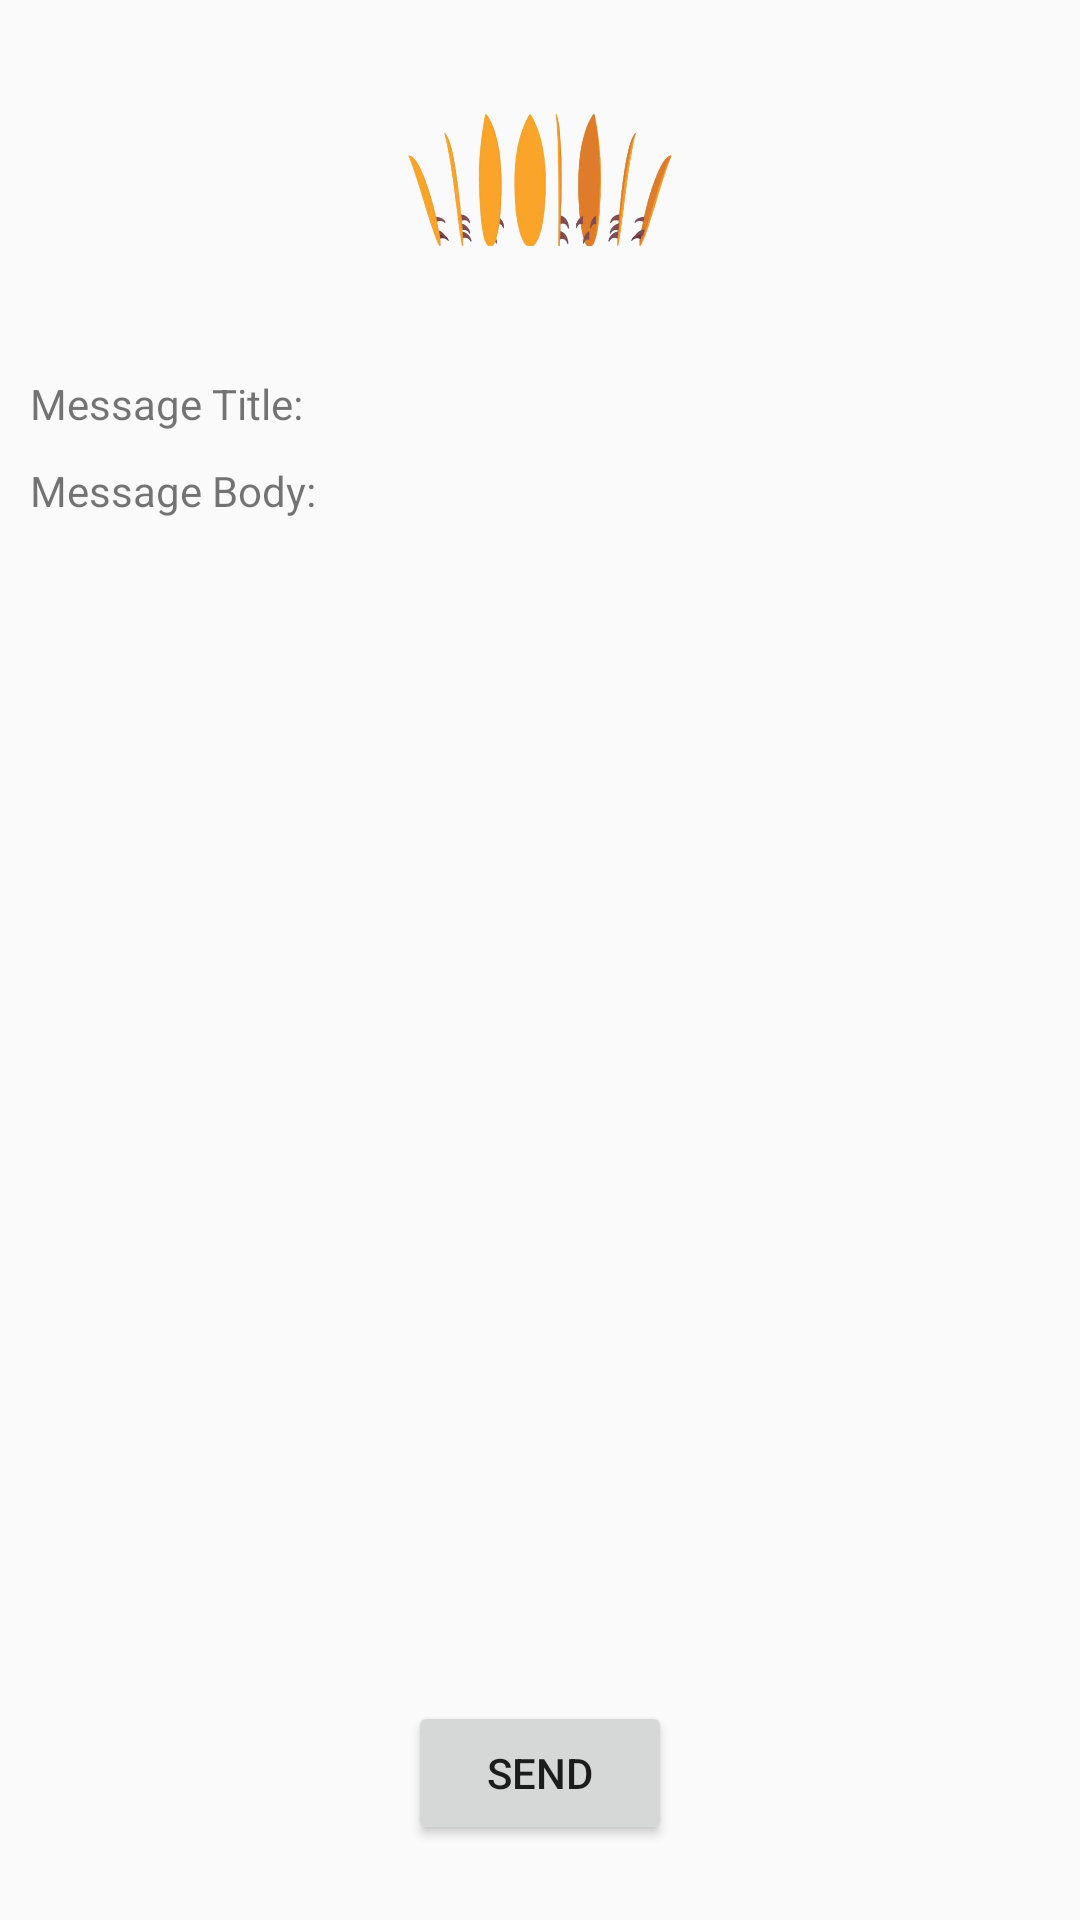

Screen size 1080×1920. Icon name, then its center in pixels as point (x, y):
board: point (540, 180)
